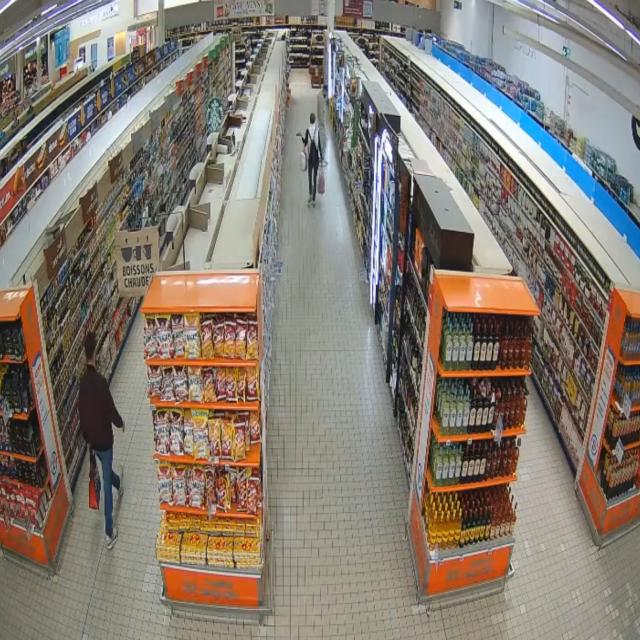bags: (89, 451, 100, 510), (308, 127, 319, 166), (317, 165, 325, 195), (300, 151, 307, 172)
hands: (122, 422, 125, 433), (297, 132, 302, 137)
person: (79, 333, 124, 549), (303, 113, 322, 205), (317, 86, 327, 150)
